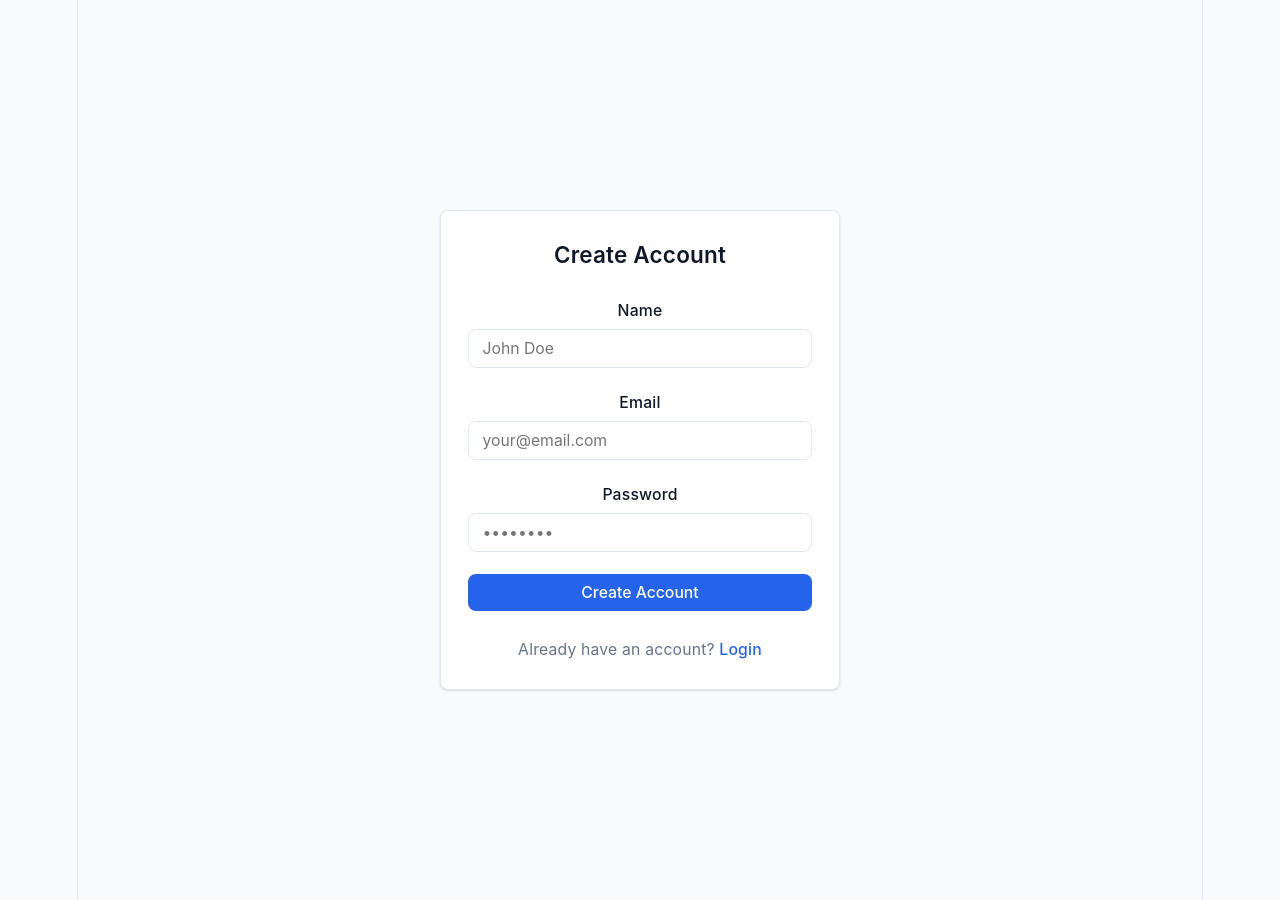
Scenario: Register Component › should show error messages for invalid input
Click the button "Create Account": x=640, y=593 x1=468 y1=574 x2=812 y2=611
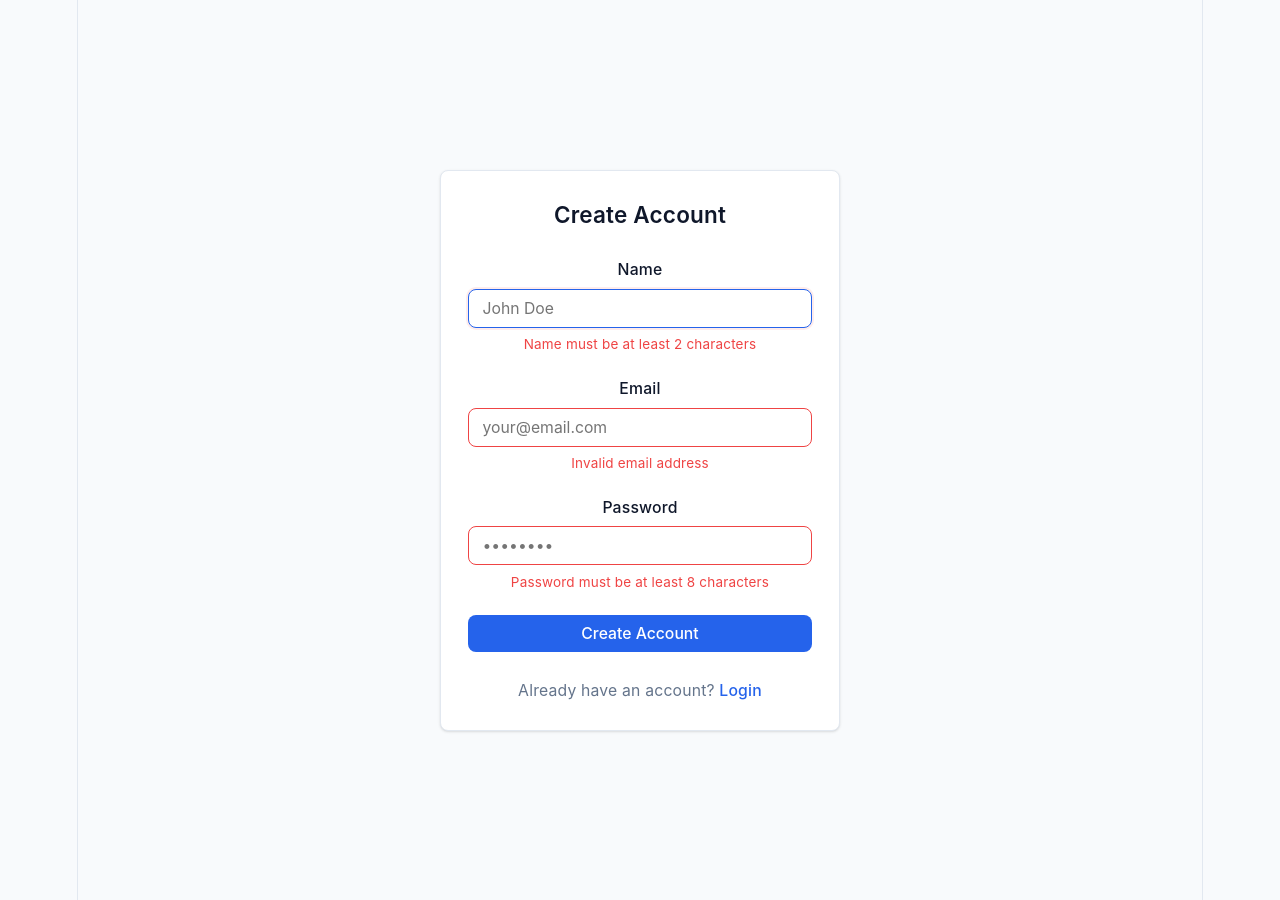
Now the text "Name must be at least 2 characters" is shown, box x1=524 y1=336 x2=756 y2=352
Now the text "Invalid email address" is shown, box x1=571 y1=455 x2=709 y2=471
Now the text "Password must be at least 8 characters" is shown, box x1=511 y1=574 x2=769 y2=590
